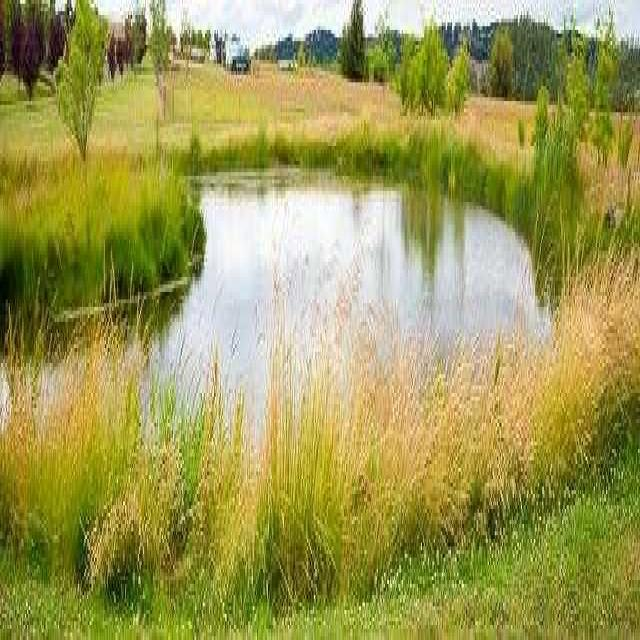Ponds: (3, 166, 563, 443)
